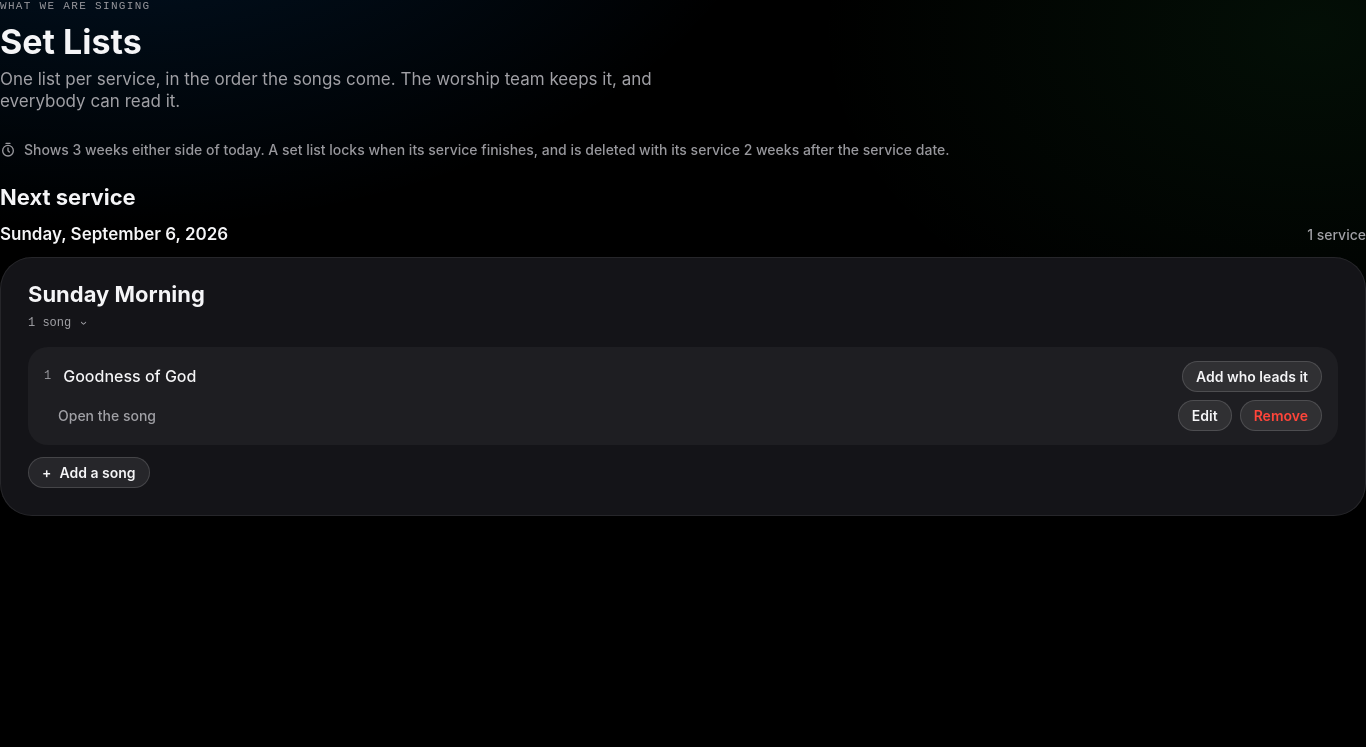
it: SetListsPage › opens straight onto the link and lyrics when the song already has them
Click the button "Edit": x=1205, y=415 [1178,400,1232,430]
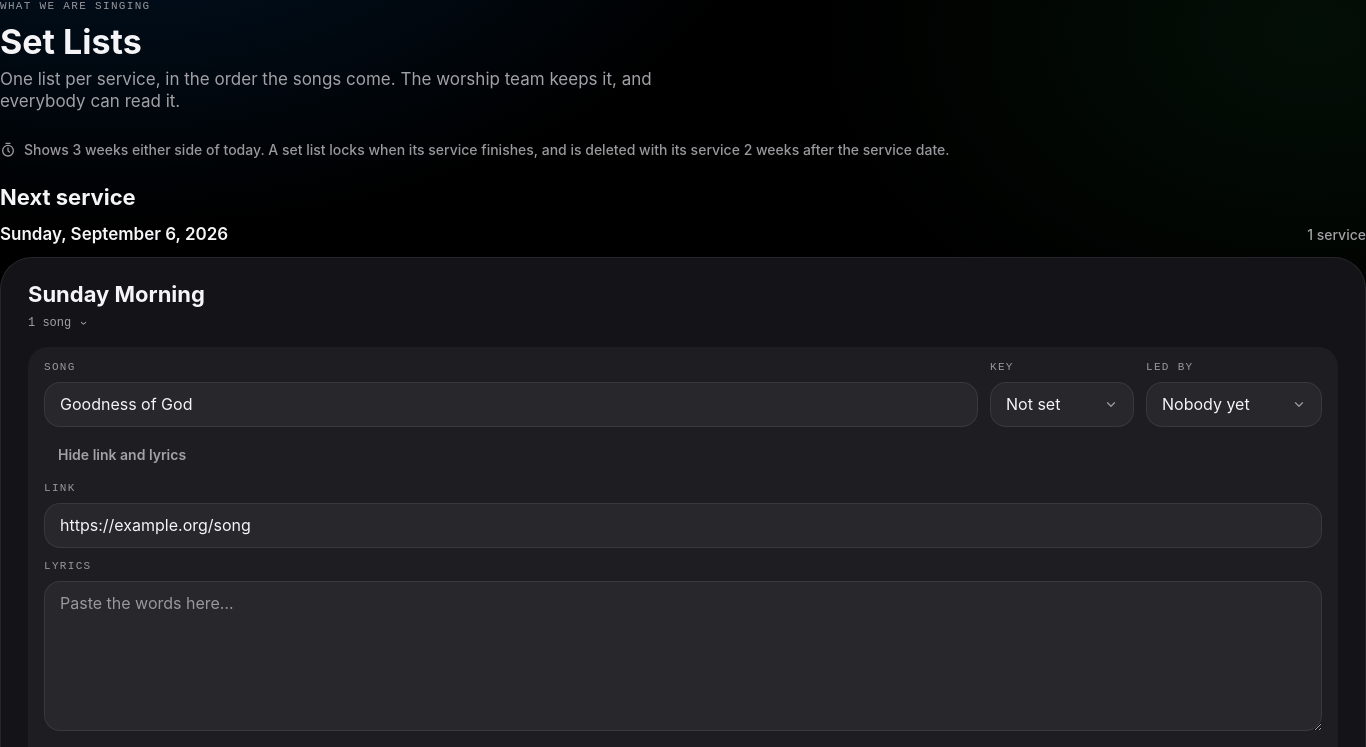
Result: the field labelled "Link" holds "https://example.org/song" at [44,502,1322,548]
